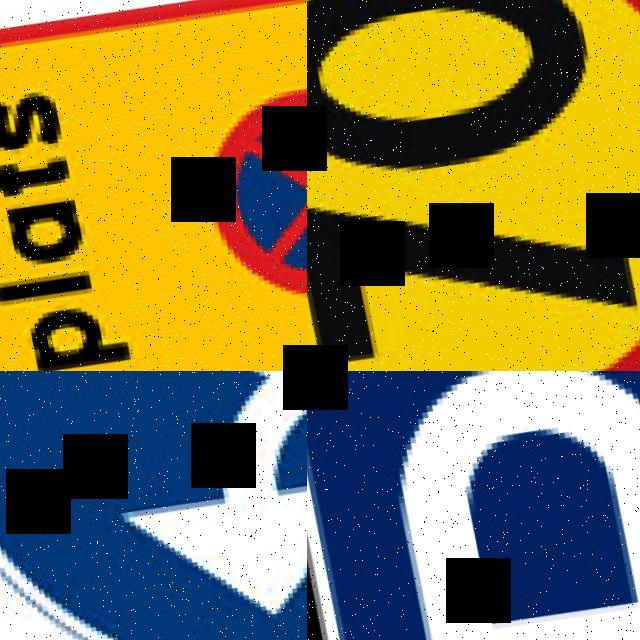177: (0, 0, 307, 371)
55: (307, 0, 640, 371)
94: (0, 371, 307, 640)
Parking: (307, 371, 640, 640)
